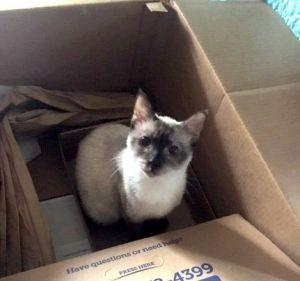siamese: (117, 89, 210, 187)
